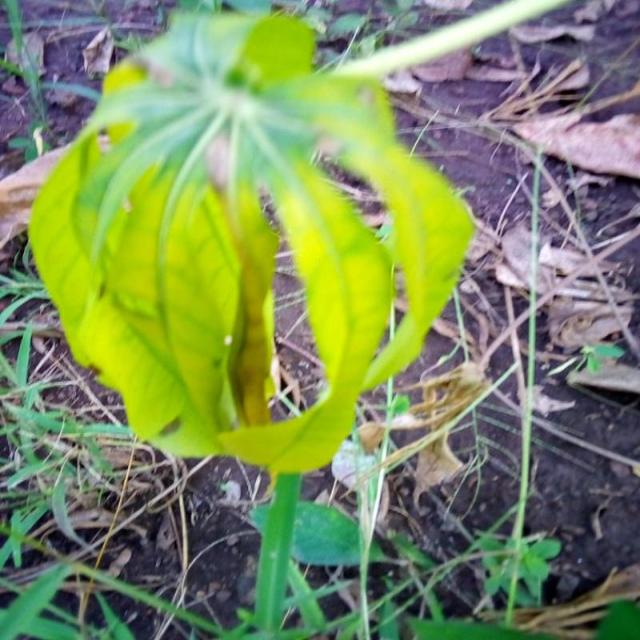cassava leaf: (26, 4, 476, 478)
